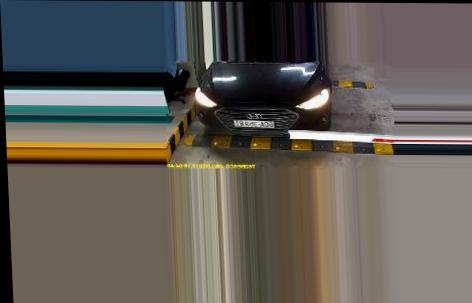License_Plate: (233, 118, 276, 130)
